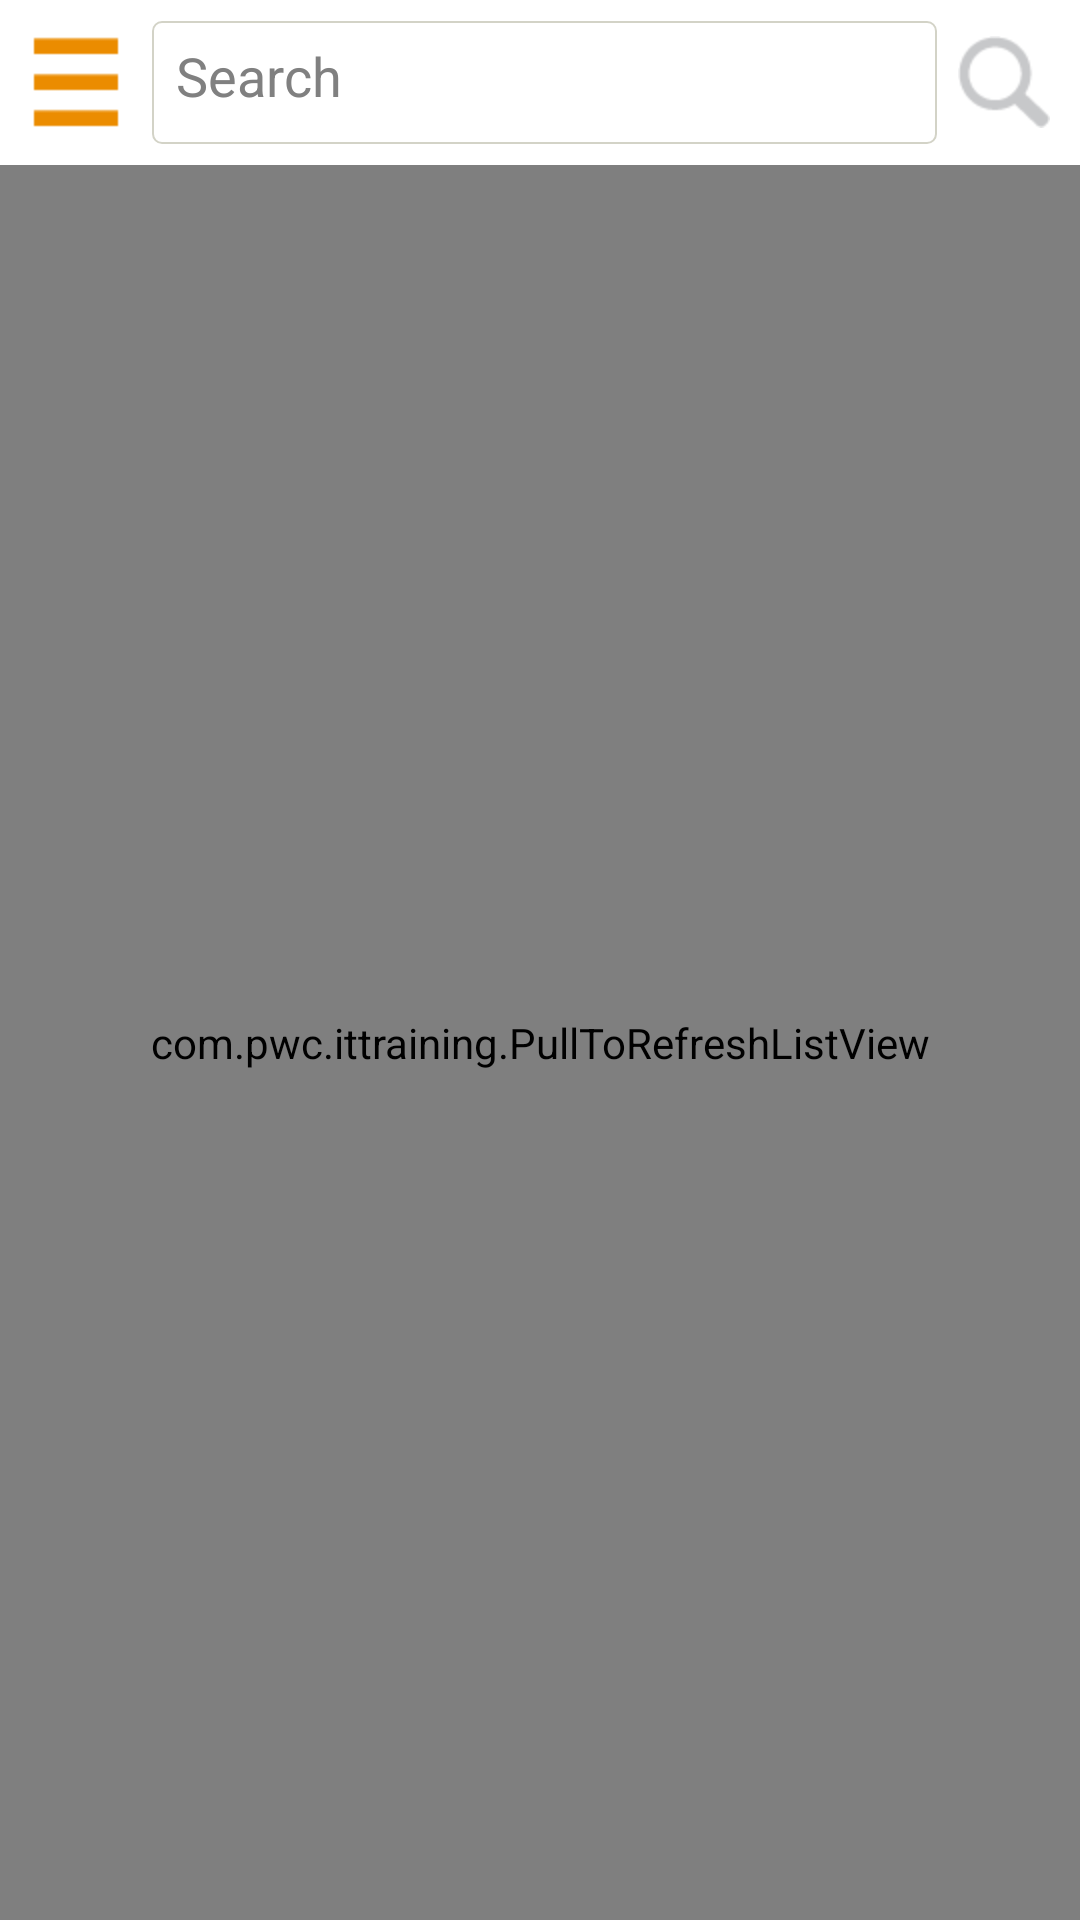

Named icons in this screenshot (1080×1920) and their centers, point (x, y):
category: point (76, 82)
